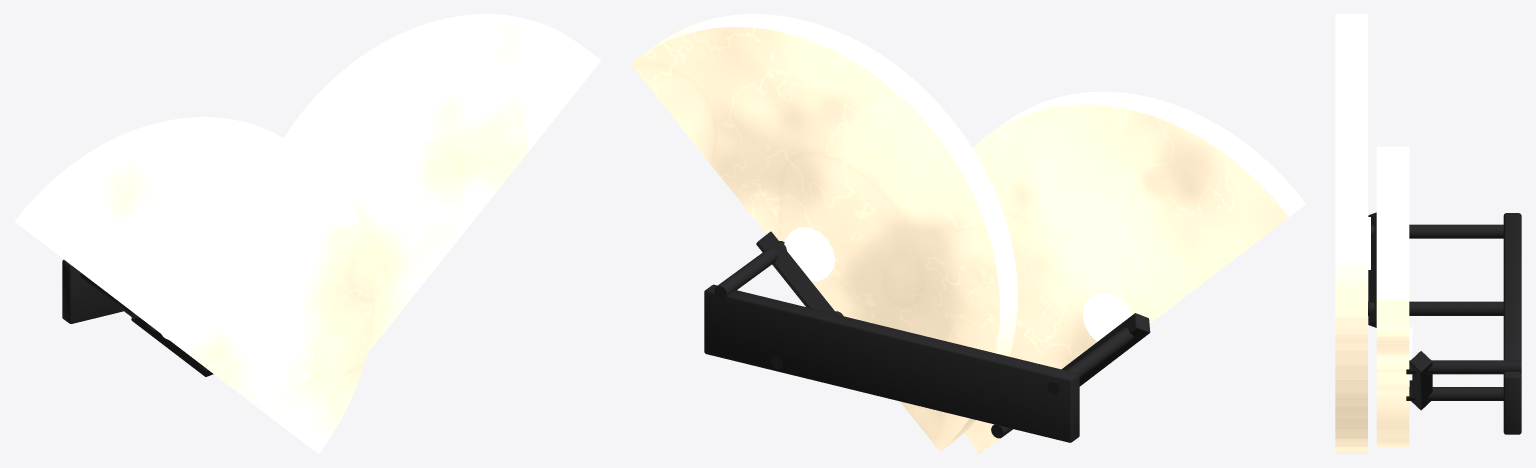
The model's file is led-light-wall-light-double-designer-fan-shaped-light.glb.
The picture shows the model from 3 angles, left to right: view 1: azimuth 30°, elevation 25°; view 2: azimuth 150°, elevation 25°; view 3: azimuth 270°, elevation 25°; orthographic projection. The views are drawn at different scales.
Parts seen in each view (by area): view 1: PetalLeft, PetalRight, WallPlate, PetalLeft_Bracket; view 2: PetalRight, PetalLeft, WallPlate, PetalRight_Led, PetalRight_Bracket, PetalLeft_Led, PetalLeft_Bracket, PetalLeft_BracketPin_1, PetalRight_BracketPin_1; view 3: PetalLeft, PetalRight, WallPlate, PetalLeft_BracketPin_0, PetalLeft_BracketPin_1, PetalRight_BracketPin_1, PetalRight_BracketPin_0, PetalRight_Bracket, PetalLeft_Bracket.
Part boxes in pixels (left/top/right/bottom): PetalLeft: left=14, top=117, right=374, bottom=453; PetalRight: left=284, top=14, right=601, bottom=353; WallPlate: left=62, top=259, right=125, bottom=323; PetalLeft_Bracket: left=131, top=312, right=213, bottom=376; PetalRight: left=631, top=14, right=1017, bottom=451; PetalLeft: left=964, top=91, right=1306, bottom=453; WallPlate: left=704, top=284, right=1079, bottom=442; PetalRight_Led: left=784, top=227, right=834, bottom=281; PetalRight_Bracket: left=756, top=231, right=837, bottom=314; PetalLeft_Led: left=1082, top=293, right=1131, bottom=341; PetalLeft_Bracket: left=1061, top=313, right=1150, bottom=386; PetalLeft_BracketPin_1: left=1047, top=327, right=1133, bottom=394; PetalRight_BracketPin_1: left=714, top=241, right=786, bottom=298; PetalLeft: left=1335, top=14, right=1367, bottom=453; PetalRight: left=1376, top=146, right=1409, bottom=447; WallPlate: left=1503, top=213, right=1521, bottom=434; PetalLeft_BracketPin_0: left=1368, top=301, right=1503, bottom=315; PetalLeft_BracketPin_1: left=1371, top=224, right=1503, bottom=238; PetalRight_BracketPin_1: left=1406, top=360, right=1521, bottom=374; PetalRight_BracketPin_0: left=1406, top=387, right=1503, bottom=400; PetalRight_Bracket: left=1409, top=351, right=1432, bottom=410; PetalLeft_Bracket: left=1368, top=212, right=1376, bottom=327.
Size of the model in its own units: 0.2896 by 0.1722 by 0.08.
Materials: 3 (2 with a texture image).
